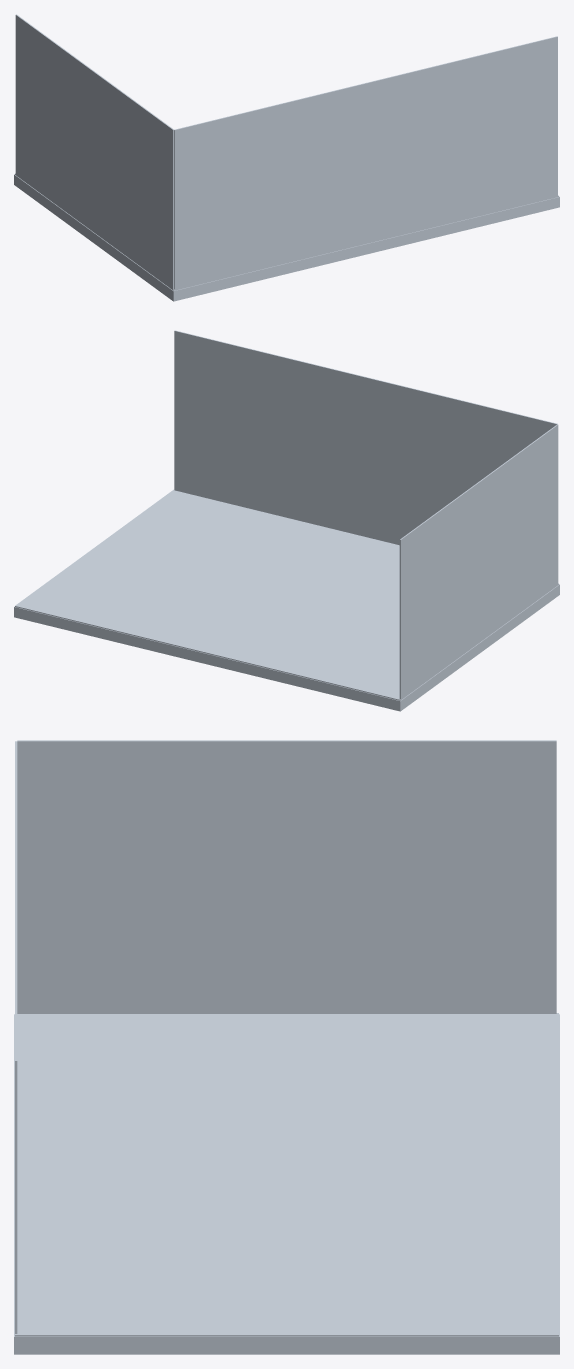
File: livingroom-layout-structure.glb
3 views of the same model, one above another, from view 1: azimuth 30°, elevation 25°; view 2: azimuth 150°, elevation 25°; view 3: azimuth 270°, elevation 25° (orthographic). The views are drawn at different scales.
Parts seen in each view (by area): view 1: wall_north_01_layout, wall_east_01_layout, Display foundation_layout, floor_01_layout; view 2: wall_north_01_layout, floor_01_layout, wall_east_01_layout, Display foundation_layout; view 3: floor_01_layout, wall_east_01_layout, Display foundation_layout, wall_north_01_layout.
Boxes of the visible parts, bbox=[...] form: wall_north_01_layout: bbox=[174, 36, 557, 290]; wall_east_01_layout: bbox=[15, 14, 174, 289]; Display foundation_layout: bbox=[14, 174, 559, 301]; floor_01_layout: bbox=[15, 173, 558, 290]; wall_north_01_layout: bbox=[174, 330, 557, 545]; floor_01_layout: bbox=[15, 489, 558, 700]; wall_east_01_layout: bbox=[399, 424, 558, 699]; Display foundation_layout: bbox=[14, 584, 559, 711]; floor_01_layout: bbox=[15, 1013, 558, 1336]; wall_east_01_layout: bbox=[17, 740, 556, 1013]; Display foundation_layout: bbox=[14, 1014, 559, 1354]; wall_north_01_layout: bbox=[15, 741, 17, 1333].
Bounding box in the file's own units: 7.02 × 2.96 × 5.02.
